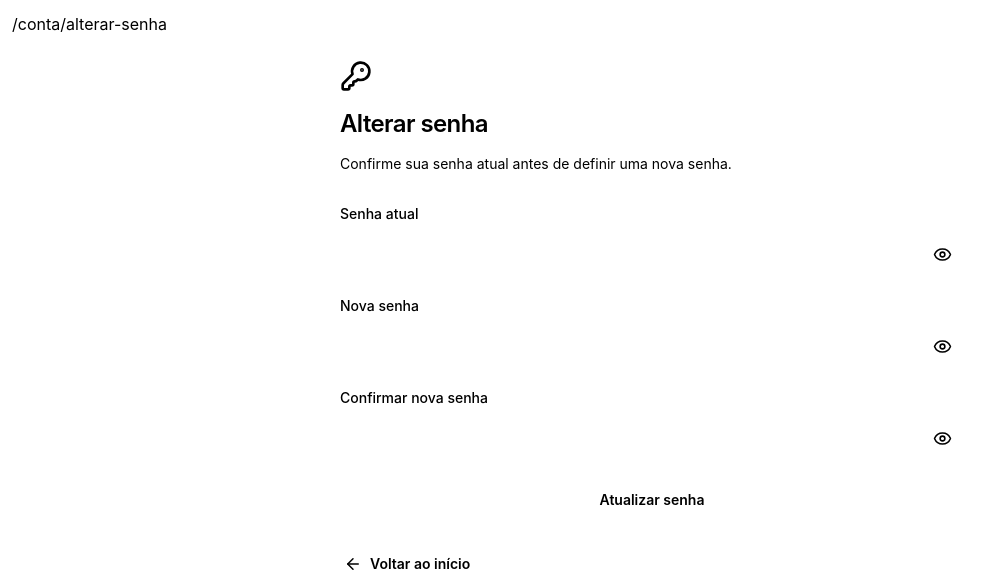
Test case: UpdatePasswordPage › mostra e oculta senhas sem submeter o formulário
The width and height of the screenshot is (982, 587).
Type "senha-atual" into the password field labelled "Senha atual" at (652, 254), box [340, 232, 964, 276]
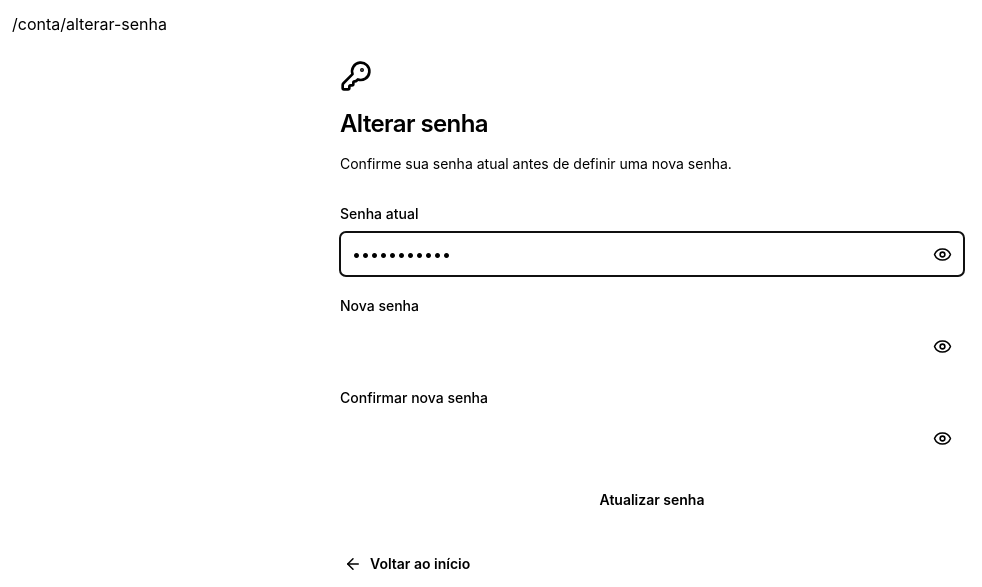
Click the 1st button named "Mostrar senha" at (942, 254), box [920, 232, 964, 276]
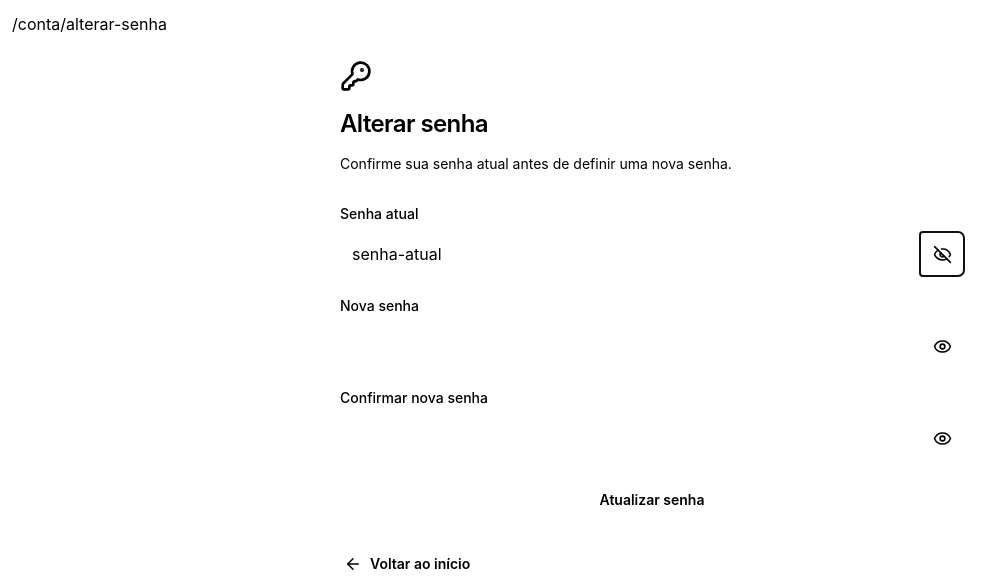
Expected: the field labelled "Senha atual" shows its text, [340, 232, 964, 276]
Click the button named "Ocultar senha" at (942, 254), box [920, 232, 964, 276]
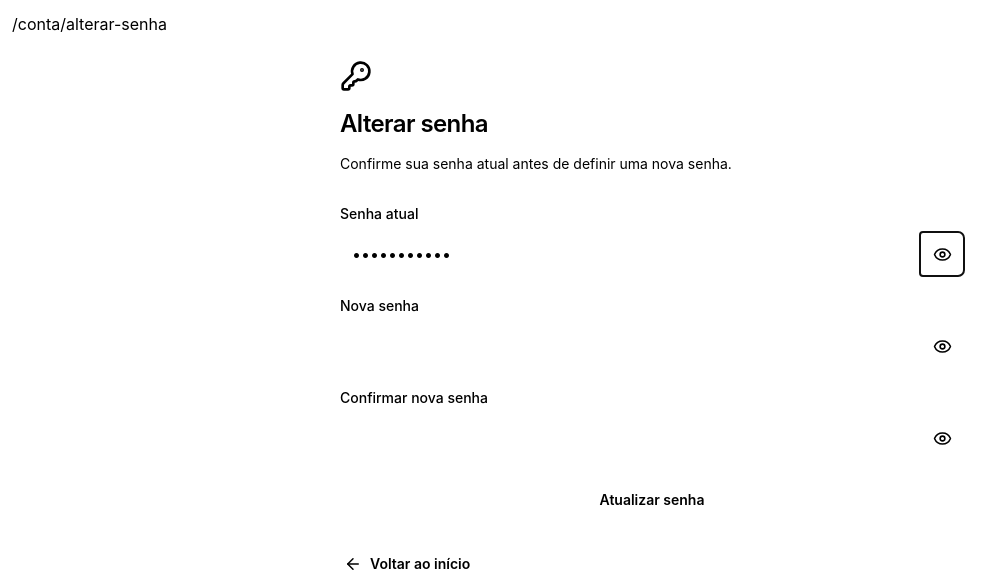
Expected: the password field labelled "Senha atual" hides its text, [340, 232, 964, 276]
